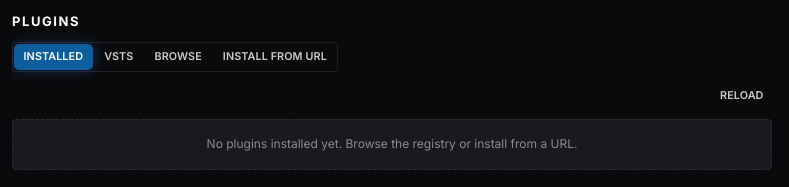
Test case: PluginsPanel — sub-tab routing › switches to the VSTs tab on click
Click the tab "VSTS". click: (119, 57)
box: top-left (96, 45), bottom-right (142, 69)
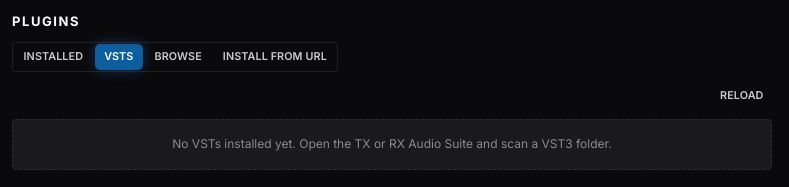
Expected: the element with test id "plugins-installed-vsts" is shown, top-left (12, 84), bottom-right (772, 170)
